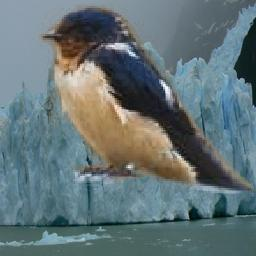Swallow: (40, 4, 255, 194)
